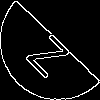Z: (25, 25, 78, 80)
